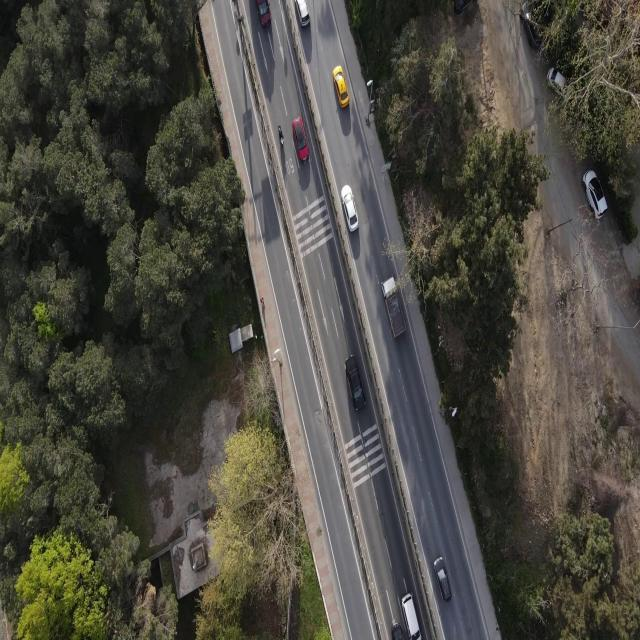p3rson: (260, 296, 265, 309)
